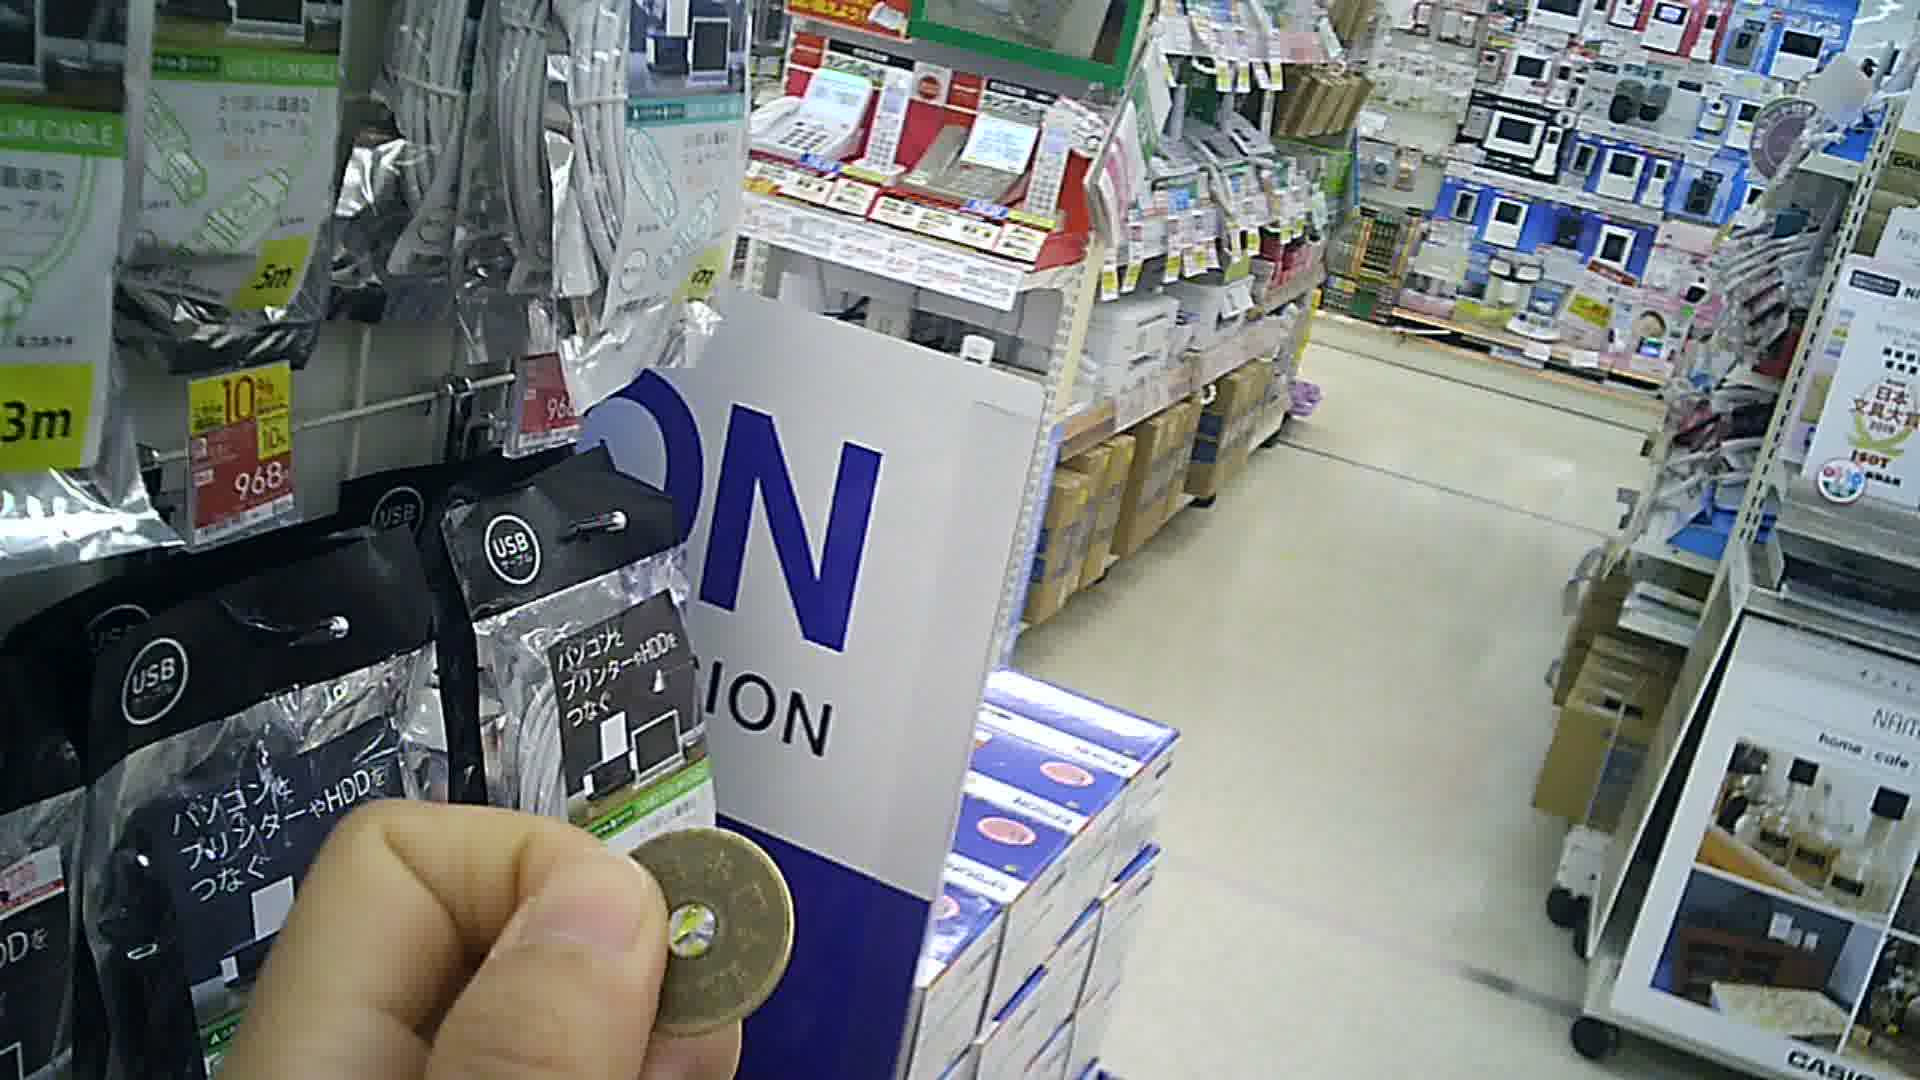5 Yen: (584, 806, 802, 1023)
